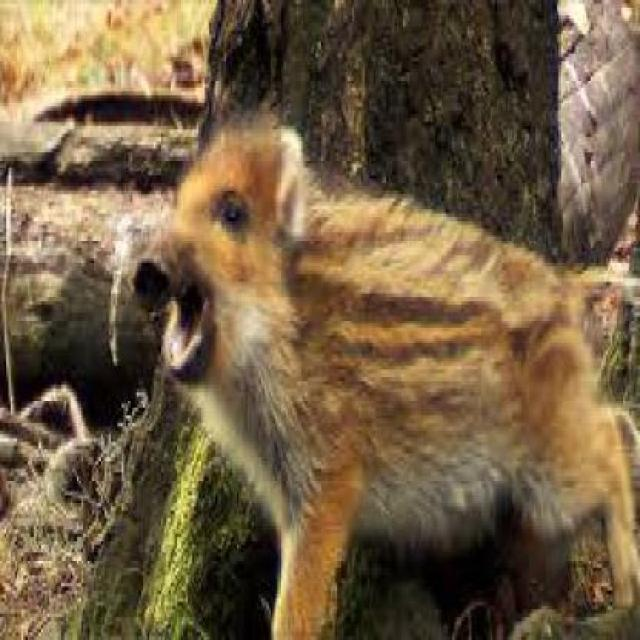Wild Boar: (127, 106, 640, 640)
